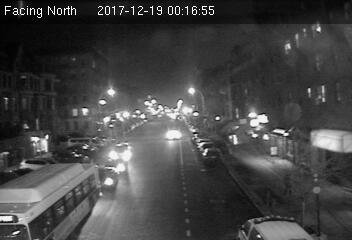car: (94, 167, 120, 191), (108, 143, 134, 161), (201, 147, 222, 162), (164, 126, 183, 141)
police: (233, 214, 316, 240)
